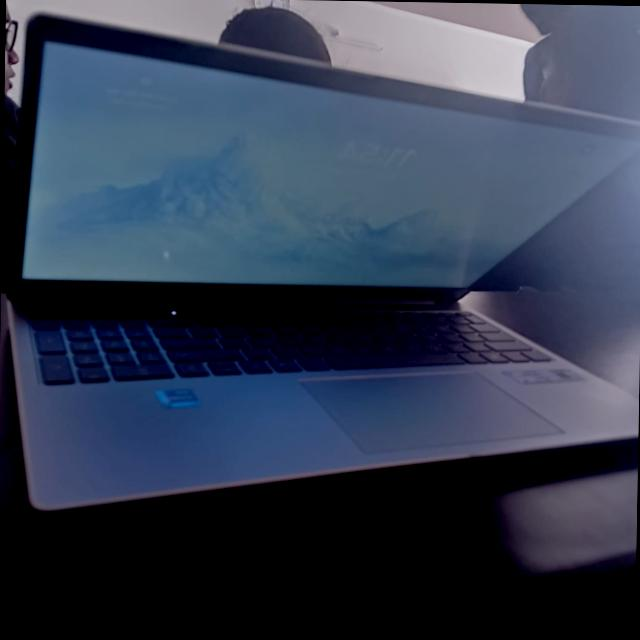laptop: (6, 21, 637, 558)
